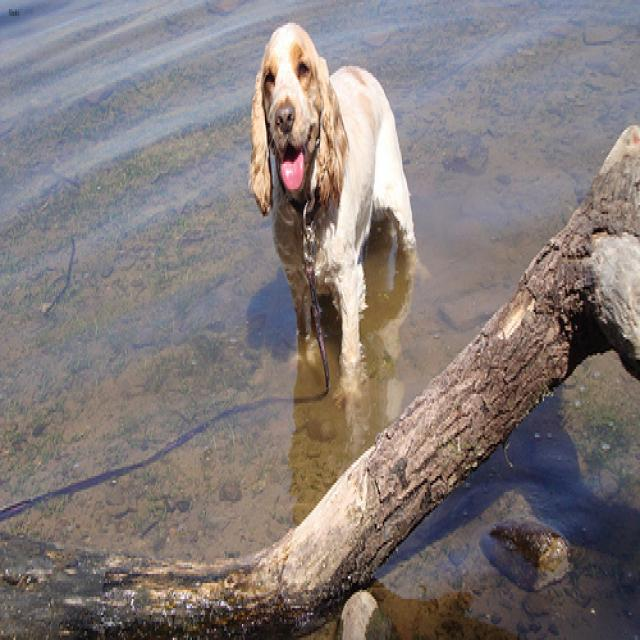dog-english_cocker_spaniel: (238, 9, 424, 417)
